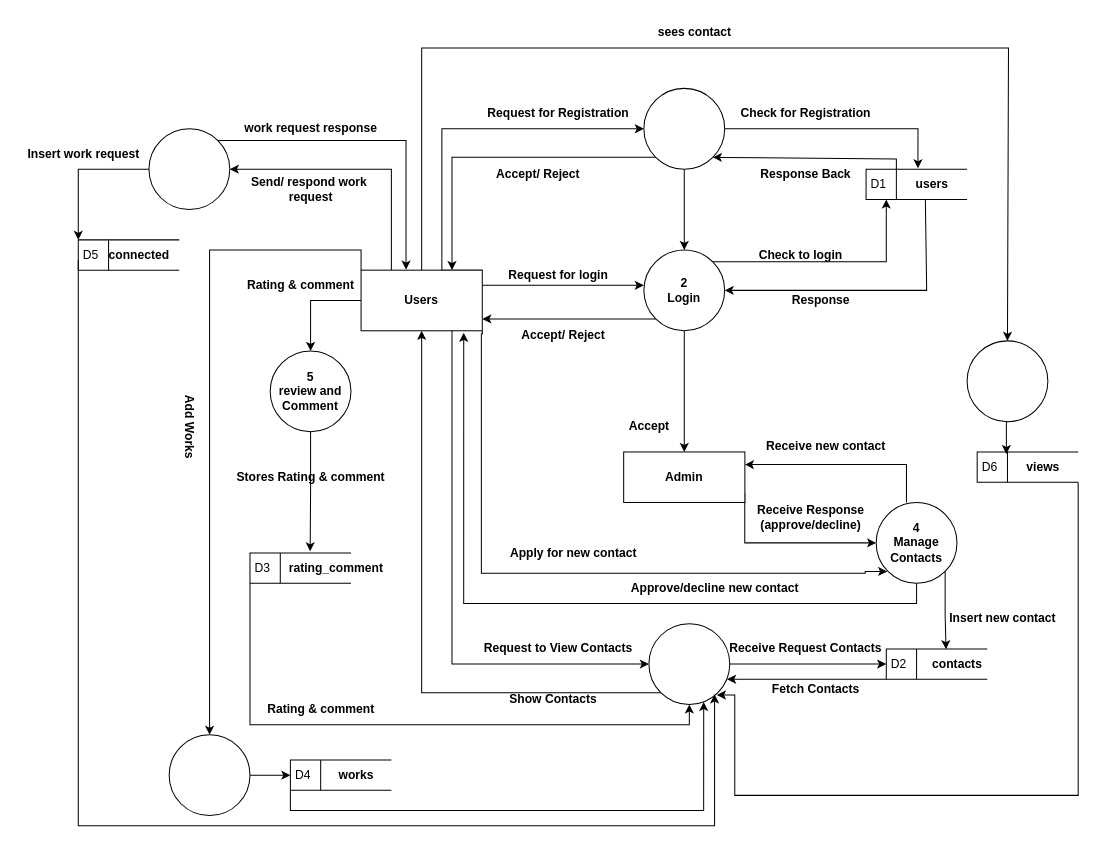
The diagram is 1104 pixels wide and 851 high, and some of its shapes have lost their labels. The centre of each missing label's shape, as x and y in pixels:
"1 Register" goes at point 684,128.
"3 View Contacts" goes at point 689,663.
"6 works" goes at point 209,775.
"7 work Request" goes at point 189,169.
"8 Record view" goes at point 1007,381.
